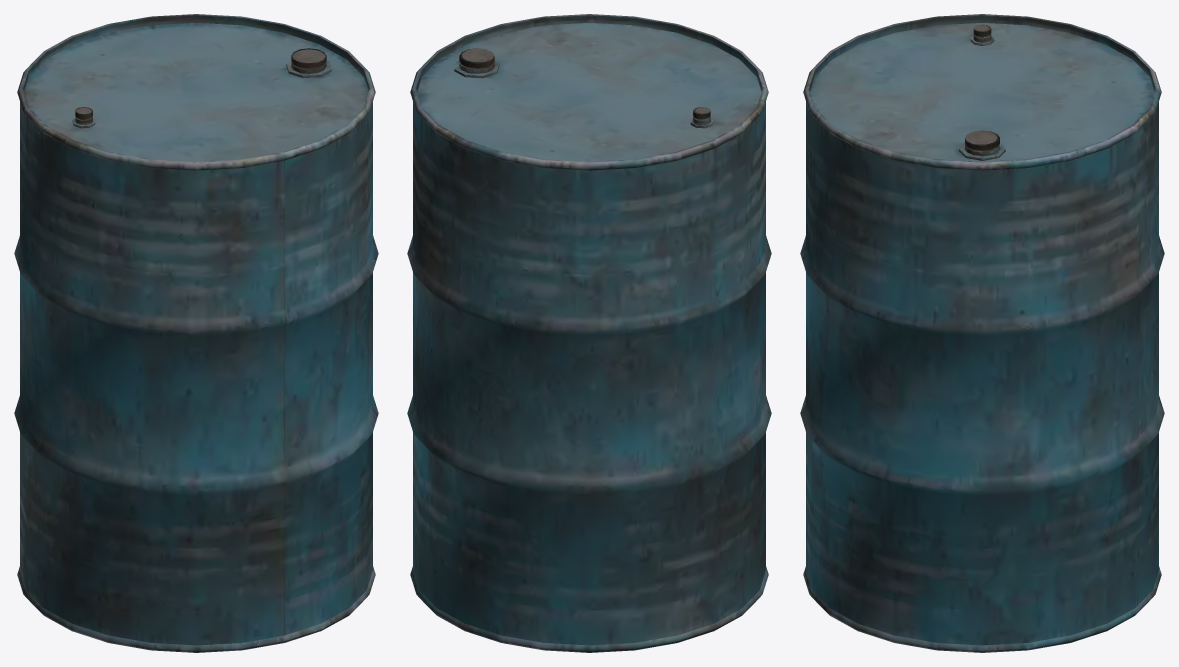
The model's file is Barrel_04.glb.
The picture shows the model from 3 angles, left to right: view 1: azimuth 30°, elevation 25°; view 2: azimuth 150°, elevation 25°; view 3: azimuth 270°, elevation 25°; orthographic projection.
Parts seen in each view (by area): view 1: Barrel_04; view 2: Barrel_04; view 3: Barrel_04.
Boxes of the visible parts, x1,y1,x2,y2 form: Barrel_04: (14,14,378,652); Barrel_04: (407,14,771,652); Barrel_04: (800,14,1164,652).
Size of the model in its own units: 0.7223 by 1.08 by 0.7223.
1 material, 1 textured.
